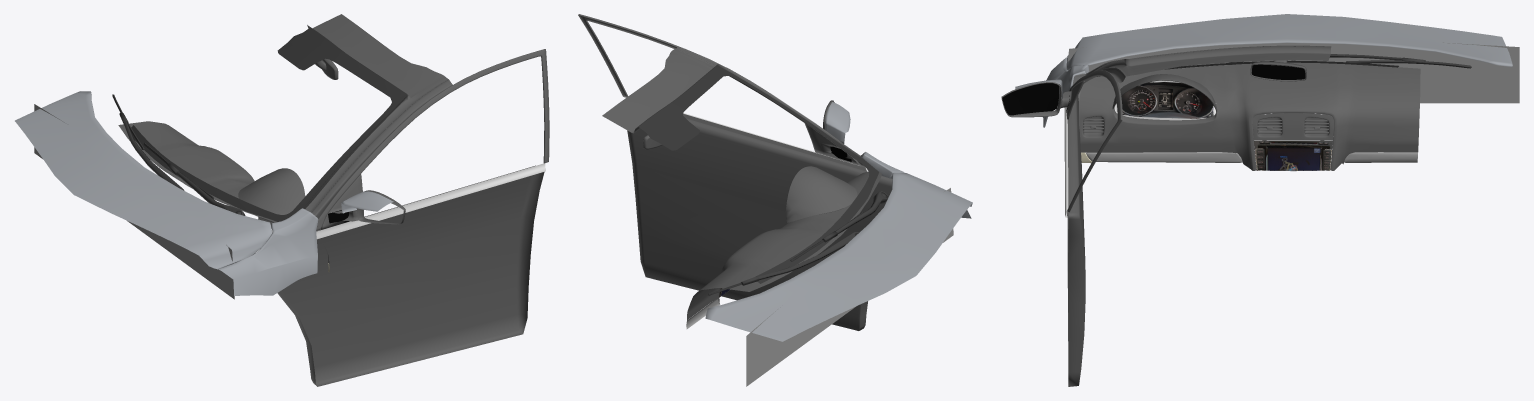
File: jieda.fbx
3 renders of one model, left to right at view 1: azimuth 30°, elevation 25°; view 2: azimuth 150°, elevation 25°; view 3: azimuth 270°, elevation 25°, orthographic. The views are drawn at different scales.
Parts seen in each view (by area): view 1: polySurface13, hood, interior, dishboard, interior windshield, fender, polySurface6, polySurface5, mirror left, pCube2, wipers; view 2: polySurface13, hood, dishboard, interior windshield, interior, pCube2, wipers, mirror left, polySurface6, polySurface5, fender; view 3: dishboard, hood, pCube2, polySurface13, interior, instrument panel, mirror left, salon mirror, polySurface6, wipers, fender, interior windshield.
Part boxes in pixels (left/top/right/bottom): polySurface13: left=277, top=165, right=544, bottom=386; hood: left=15, top=91, right=272, bottom=269; interior: left=304, top=14, right=452, bottom=217; dishboard: left=118, top=121, right=329, bottom=272; interior windshield: left=131, top=27, right=408, bottom=222; fender: left=218, top=208, right=318, bottom=295; polySurface6: left=316, top=49, right=549, bottom=230; polySurface5: left=316, top=163, right=545, bottom=239; mirror left: left=321, top=174, right=405, bottom=229; pCube2: left=34, top=104, right=234, bottom=299; wipers: left=112, top=94, right=245, bottom=215; polySurface13: left=627, top=118, right=892, bottom=330; hood: left=705, top=172, right=972, bottom=341; dishboard: left=686, top=166, right=881, bottom=329; interior windshield: left=638, top=65, right=878, bottom=283; interior: left=602, top=47, right=863, bottom=159; pCube2: left=746, top=188, right=953, bottom=386; wipers: left=708, top=191, right=888, bottom=295; mirror left: left=804, top=100, right=858, bottom=165; polySurface6: left=578, top=14, right=865, bottom=167; polySurface5: left=683, top=113, right=867, bottom=171; fender: left=861, top=152, right=971, bottom=218; dishboard: left=1079, top=62, right=1420, bottom=171; hood: left=1066, top=14, right=1512, bottom=70; pCube2: left=1067, top=42, right=1519, bottom=103; polySurface13: left=1067, top=77, right=1085, bottom=386; interior: left=1072, top=45, right=1331, bottom=84; instrument panel: left=1114, top=80, right=1215, bottom=120; mirror left: left=1001, top=79, right=1084, bottom=119; salon mirror: left=1250, top=60, right=1306, bottom=81; polySurface6: left=1067, top=70, right=1122, bottom=212; wipers: left=1229, top=54, right=1471, bottom=68; fender: left=1043, top=57, right=1089, bottom=127; interior windshield: left=1087, top=46, right=1398, bottom=76.
Size of the model in its own units: 34.12 by 21.21 by 33.68.
